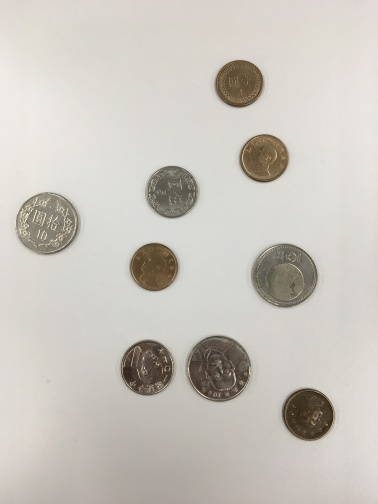1 dollar: (272, 381, 343, 451), (232, 128, 300, 191), (205, 54, 276, 112), (122, 238, 191, 294)
10 dollar: (245, 238, 330, 319), (8, 186, 86, 265), (183, 324, 255, 407)
5 dollar: (111, 331, 180, 405), (138, 159, 207, 228)
